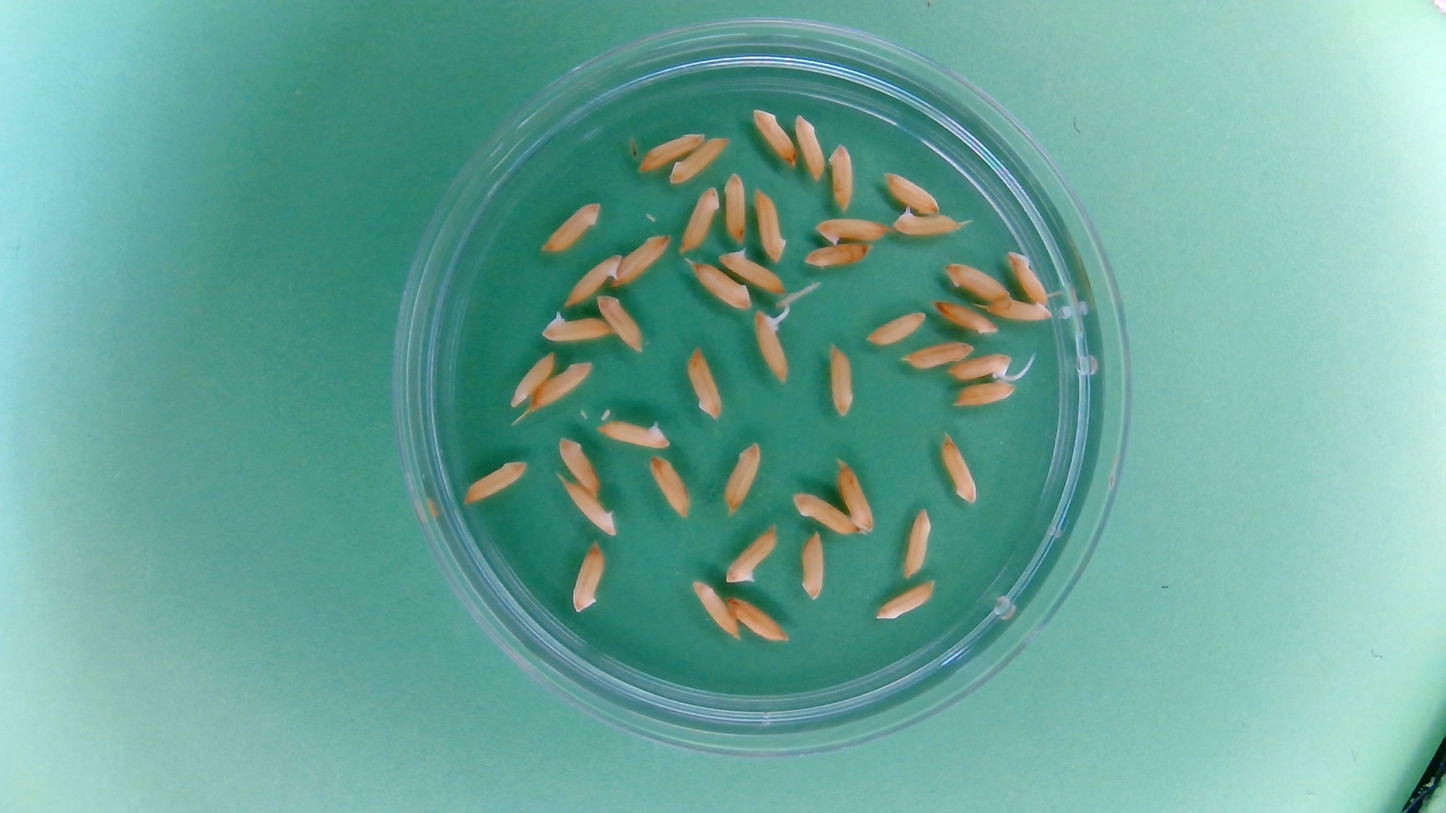no: (558, 475, 620, 537), (528, 359, 596, 414), (723, 521, 779, 586), (666, 133, 732, 187), (611, 230, 672, 288), (539, 199, 602, 255), (724, 593, 790, 646), (687, 260, 752, 312), (461, 458, 531, 506), (713, 248, 786, 294), (834, 456, 876, 534), (789, 490, 860, 536), (688, 577, 739, 641), (636, 128, 706, 174), (685, 343, 725, 422), (595, 291, 644, 355), (677, 184, 721, 255), (722, 440, 763, 516), (749, 105, 797, 169), (646, 451, 691, 519), (556, 434, 602, 498), (508, 349, 557, 409), (942, 260, 1012, 302), (570, 539, 608, 616), (940, 431, 979, 506), (752, 186, 789, 265), (881, 168, 942, 215), (1005, 248, 1052, 308), (874, 580, 938, 623), (930, 297, 1000, 336), (595, 416, 672, 450), (810, 214, 891, 246), (792, 112, 828, 182), (900, 507, 934, 580), (864, 309, 928, 347), (825, 343, 856, 418), (891, 206, 963, 238), (798, 529, 829, 602), (720, 170, 749, 246), (826, 142, 857, 213), (902, 340, 975, 370), (803, 240, 872, 270), (952, 377, 1017, 408), (984, 295, 1053, 324)
yes: (563, 251, 621, 308), (752, 306, 791, 382), (540, 311, 612, 344), (947, 349, 1013, 382)
